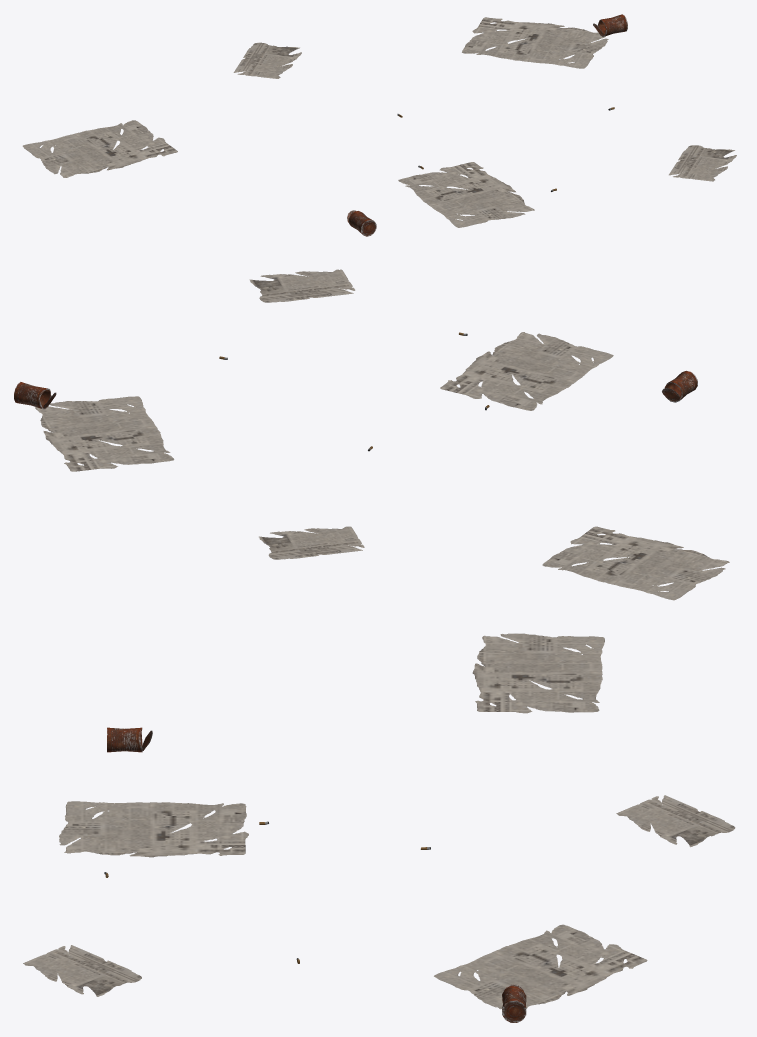
Rendered from GarbageDesbris_B.fbx.
3 renders of one model, top to bottom at view 1: azimuth 30°, elevation 25°; view 2: azimuth 150°, elevation 25°; view 3: azimuth 270°, elevation 25°, orthographic. The views are drawn at different scales.
Parts seen in each view (by area): view 1: GarbageDesbris_B_LOD0; view 2: GarbageDesbris_B_LOD0; view 3: GarbageDesbris_B_LOD0.
Boxes of the visible parts, x1,y1,x2,y2 form: GarbageDesbris_B_LOD0: [22, 14, 736, 236]; GarbageDesbris_B_LOD0: [14, 269, 729, 600]; GarbageDesbris_B_LOD0: [23, 633, 735, 1022].
Size of what is drawn, in the model's own units: 410 by 10.87 by 323.
